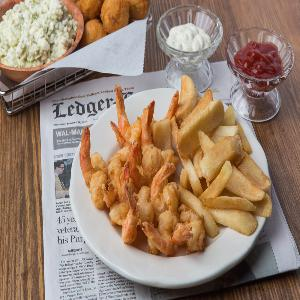fries: (75, 86, 266, 263)
